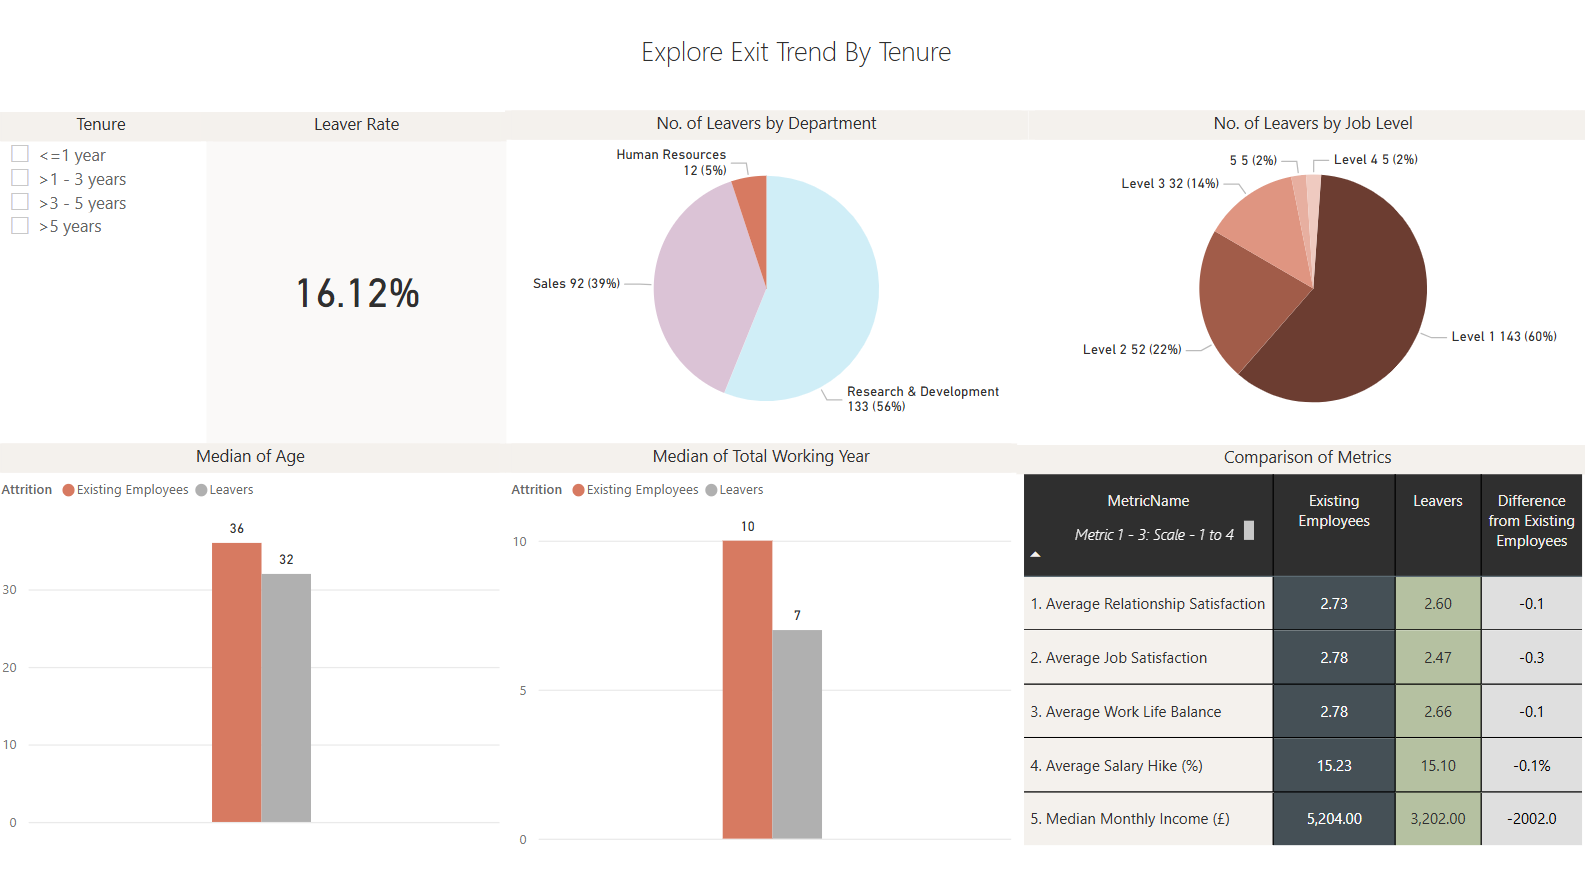

This screenshot's page, from the dashboard's own definition file:
{"tool":"powerbi","page":{"name":"Explore Exit Trend","canvas":[1280,720],"ordinal":1},"visuals":[{"type":"card","title":"Leaver Rate","fields":{"Values":["HR Data_20250501.Atttrition Rate (%)"]},"box":[169,95.6,239.7,264.6],"z":0},{"type":"pieChart","title":"No. of Leavers by Department","fields":{"Category":["HR Data_20250501.Department"],"Y":["Sum(HR Data_20250501.EmployeeCount)"]},"box":[407.5,95,417.1,265.6],"z":1000},{"type":"clusteredColumnChart","title":"Median of Age","fields":{"Series":["HR Data_20250501.Attrition"],"Y":["Median(HR Data_20250501.Age)"]},"box":[0,360.6,407.5,314.9],"z":2000},{"type":"tableEx","title":"Comparison of Metrics","fields":{"Values":["MetricLabelTable.MetricName","HR Data_20250501.Selected_NonLeaver_Value","HR Data_20250501.Selected_Leaver_Value","HR Data_20250501.Selected_Diff_Value"]},"box":[815.4,361.4,464.6,357.8],"z":3000},{"type":"textbox","box":[0,26.4,1278.9,39.7],"z":4000},{"type":"pieChart","title":"No. of Leavers by Job Level","fields":{"Category":["HR Data_20250501.JobLevel"],"Y":["Sum(HR Data_20250501.EmployeeCount)"]},"box":[824.6,95,454.4,265.6],"z":5000},{"type":"clusteredColumnChart","title":"Median of Total Working Year","fields":{"Series":["HR Data_20250501.Attrition"],"Y":["Median(HR Data_20250501.TotalWorkingYears)"]},"box":[407.5,360.6,408.7,328.1],"z":6000},{"type":"textbox","box":[848.6,417.1,161.1,26.4],"z":7000},{"type":"slicer","title":"Tenure","fields":{"Values":["Legend_YearsInCompany.Legend_YearsInCompany"]},"box":[0,95.6,169,264.6],"z":8000}]}

Visuals, with their boxes in screenshot pixels (x1, y1, x2, y2), scaled from the page's 1280x720 canvas onto the 1585x871 screenshot:
"Leaver Rate" card: BBox(209, 116, 506, 436)
"No. of Leavers by Department" pieChart: BBox(505, 115, 1021, 436)
"Median of Age" clusteredColumnChart: BBox(0, 436, 505, 817)
"Comparison of Metrics" tableEx: BBox(1010, 437, 1584, 870)
textbox: BBox(0, 32, 1584, 80)
"No. of Leavers by Job Level" pieChart: BBox(1021, 115, 1584, 436)
"Median of Total Working Year" clusteredColumnChart: BBox(505, 436, 1011, 833)
textbox: BBox(1051, 505, 1250, 537)
"Tenure" slicer: BBox(0, 116, 209, 436)
